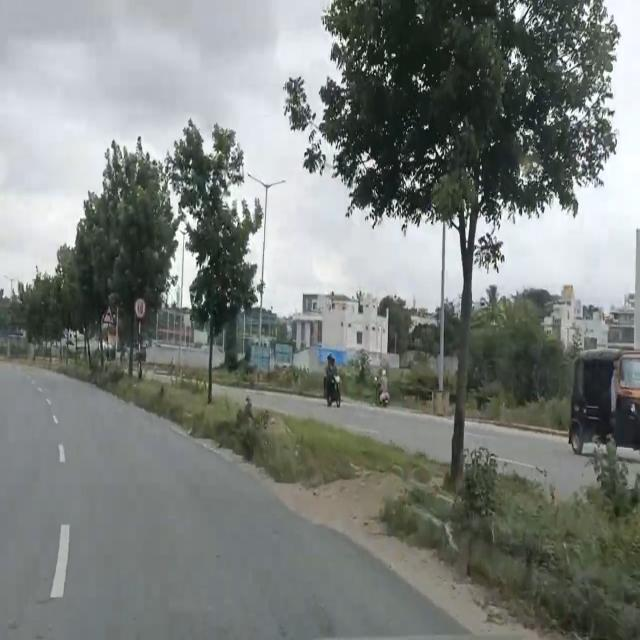bien_cam: (134, 297, 146, 320), (103, 303, 115, 324)
